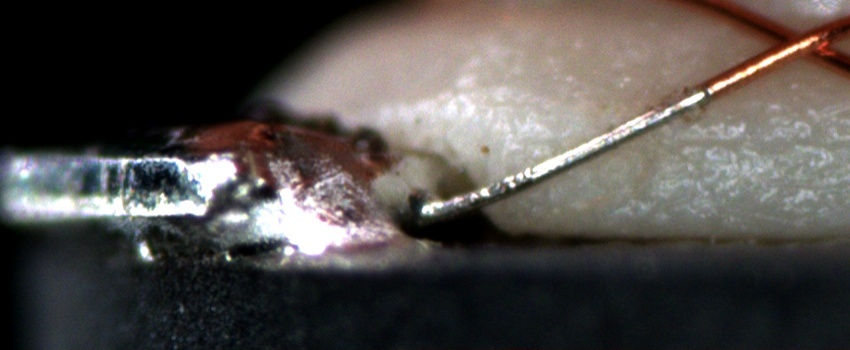CL: (752, 13, 845, 70)
DL: (650, 112, 850, 176)
TS: (414, 86, 712, 220)
